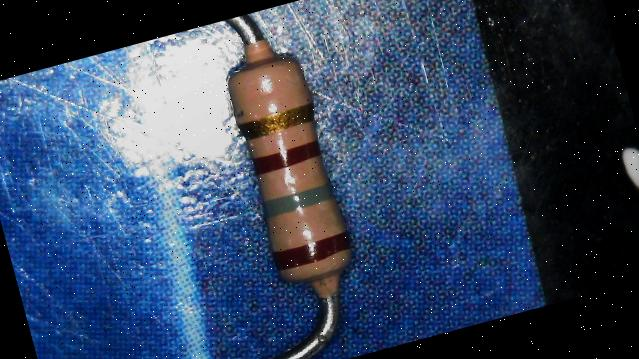brown: (272, 232, 354, 270), (250, 139, 324, 174)
gold: (240, 101, 316, 140)
grey: (260, 181, 335, 216)
resistor: (194, 30, 384, 306)
